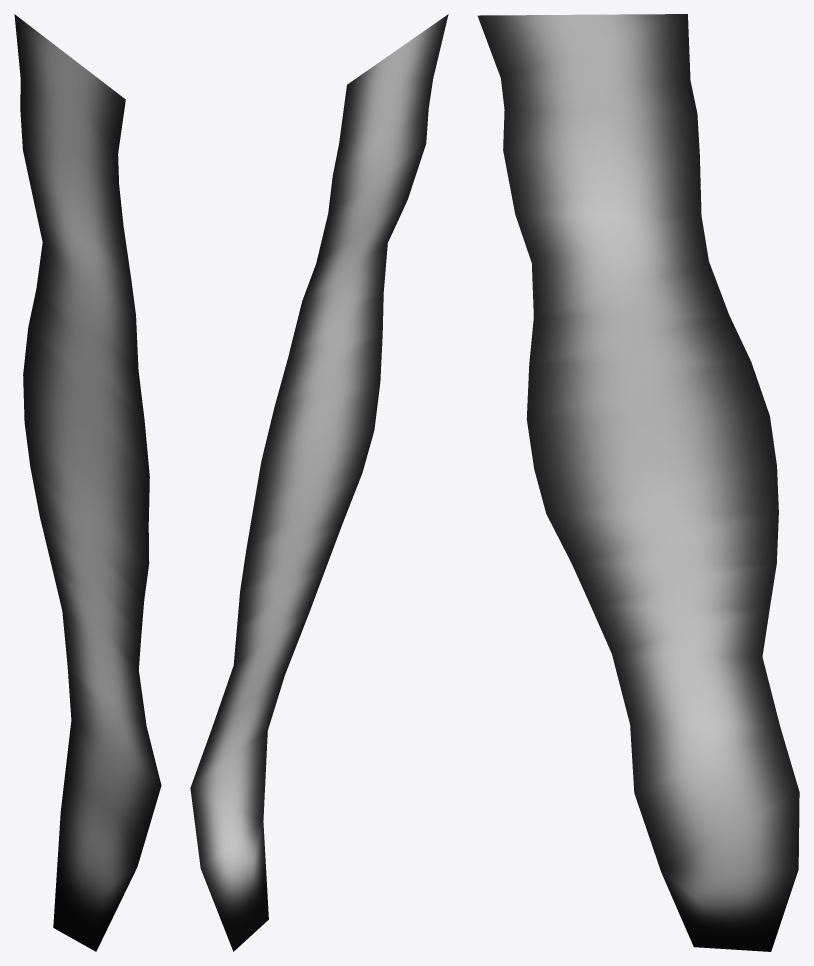
File: texiao05.FBX
3 views of the same model, side by side, from view 1: azimuth 30°, elevation 25°; view 2: azimuth 150°, elevation 25°; view 3: azimuth 270°, elevation 25° (orthographic). The views are drawn at different scales.
Parts seen in each view (by area): view 1: texiao05; view 2: texiao05; view 3: texiao05.
Part boxes in pixels (x1=…): texiao05: x1=14, y1=14, x2=161, y2=951; texiao05: x1=190, y1=14, x2=448, y2=951; texiao05: x1=477, y1=14, x2=799, y2=951.
Bounding box in the file's own units: 5.71 × 44 × 14.27.
